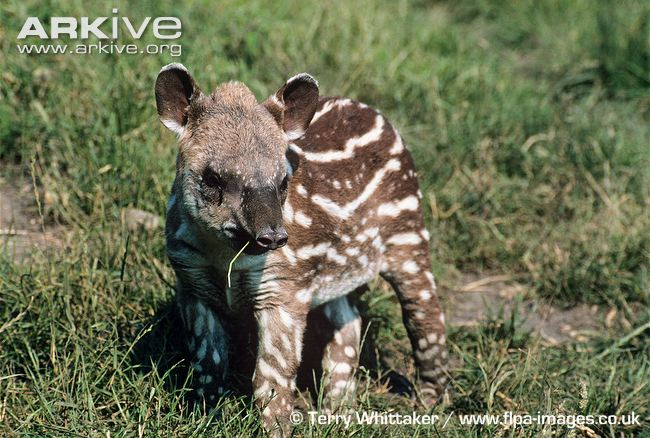Anta: (141, 57, 464, 405)
